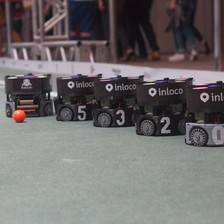ball: (10, 106, 27, 123)
robot: (132, 76, 190, 138), (181, 80, 224, 149), (90, 74, 138, 129), (2, 71, 54, 119), (52, 72, 95, 123)
